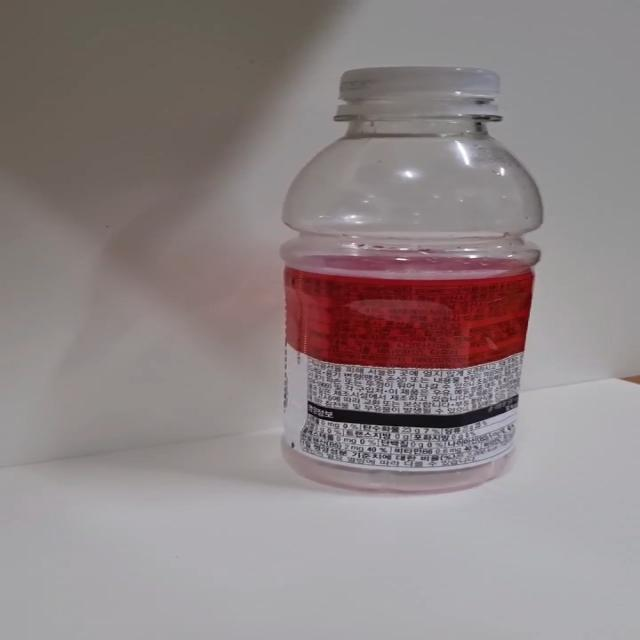Plastic: (277, 68, 545, 496)
